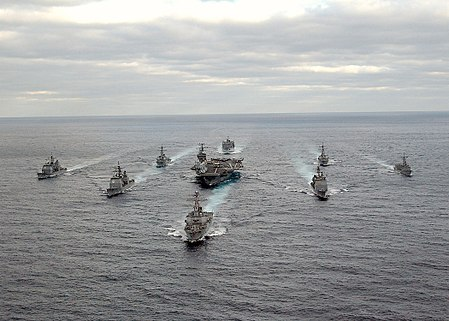Ship: (191, 148, 241, 183), (184, 193, 214, 240), (107, 171, 136, 197), (38, 162, 66, 178), (310, 173, 326, 198), (395, 157, 411, 175), (156, 146, 170, 166), (318, 149, 328, 166), (223, 139, 234, 150)
